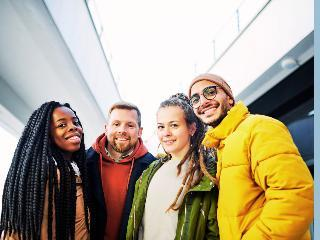person - v3 P: (189, 74, 313, 239), (127, 94, 219, 239), (0, 102, 92, 239), (87, 102, 157, 239)
